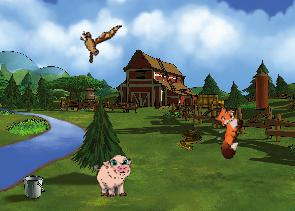eagle: (72, 12, 122, 69)
fox: (201, 101, 248, 160)
pig: (94, 155, 134, 198)
